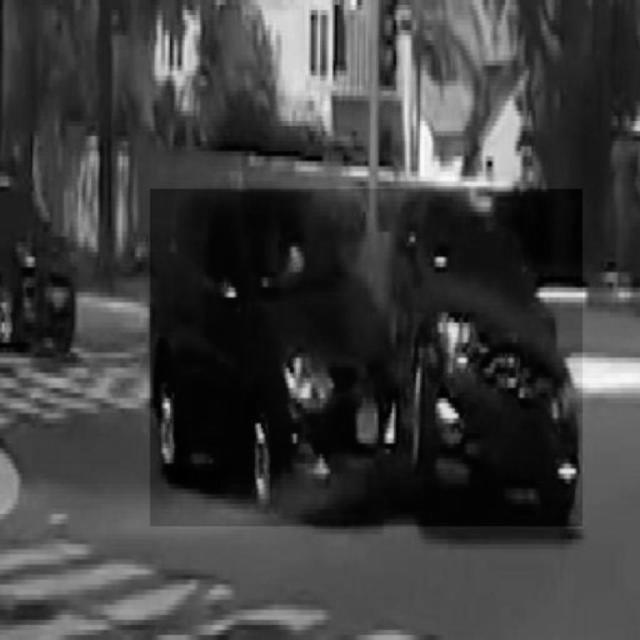accident: (150, 189, 582, 526)
